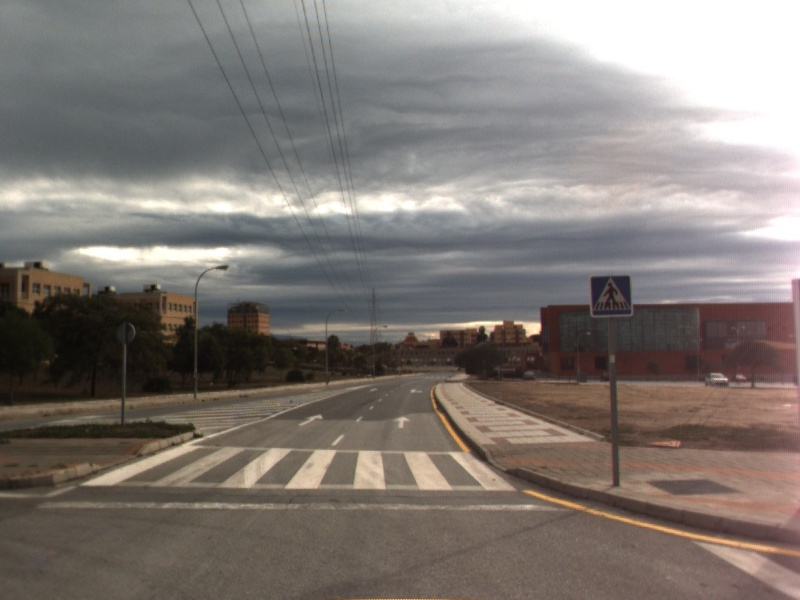STRAIGHT: (296, 412, 325, 428), (391, 414, 413, 430)
